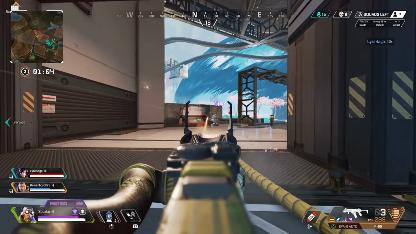Target: (209, 112, 217, 127)
